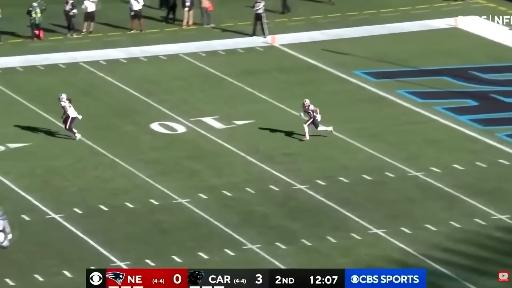Helmet: (59, 94, 66, 101), (303, 99, 309, 105)
Jersey: (60, 100, 78, 117), (303, 105, 315, 117)
Player: (303, 100, 333, 140), (59, 94, 81, 139)
